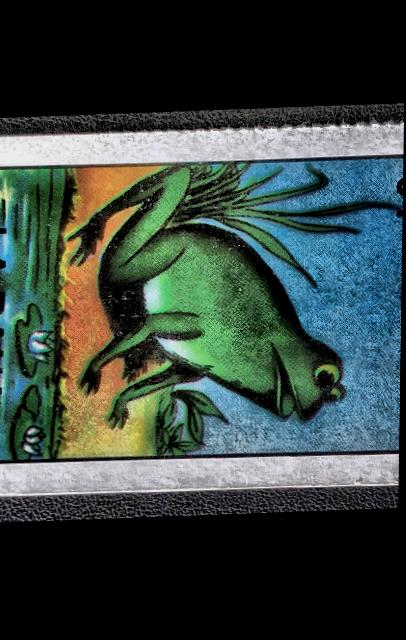La Rana: (0, 138, 404, 486)
